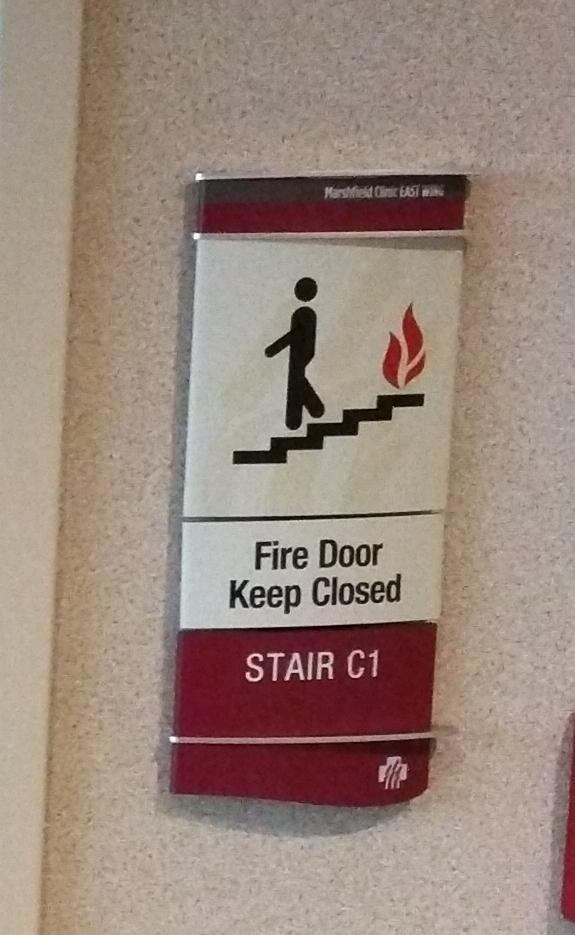sign: (170, 171, 471, 808)
